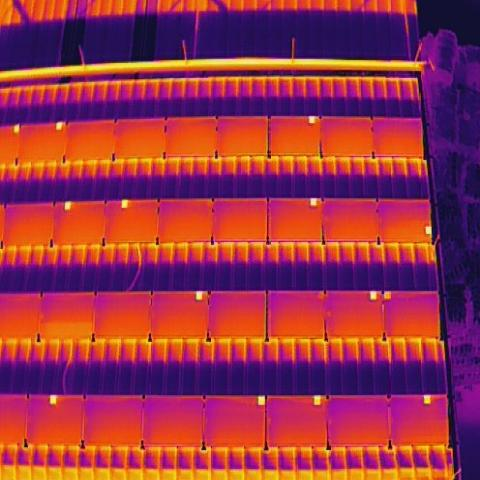fault: (422, 393, 433, 406), (312, 394, 323, 407), (120, 198, 131, 210), (195, 289, 204, 303), (48, 393, 57, 407), (54, 121, 64, 132), (369, 290, 378, 302), (63, 200, 72, 212), (424, 223, 432, 236), (257, 395, 266, 406), (12, 123, 20, 135), (309, 197, 319, 206), (307, 116, 316, 125), (383, 291, 391, 301), (318, 289, 325, 300)
